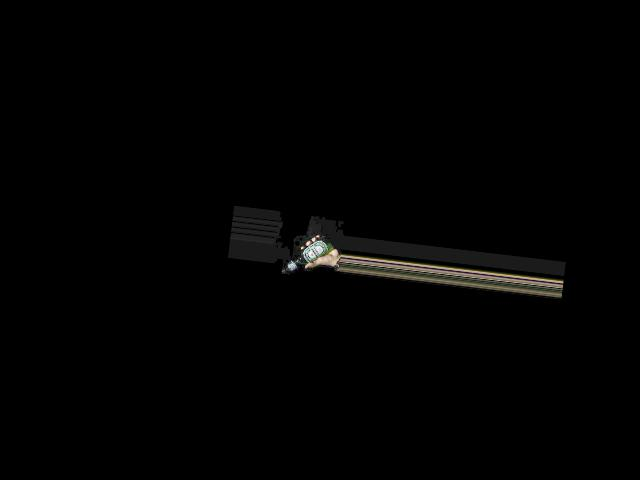beer: (279, 230, 337, 280)
